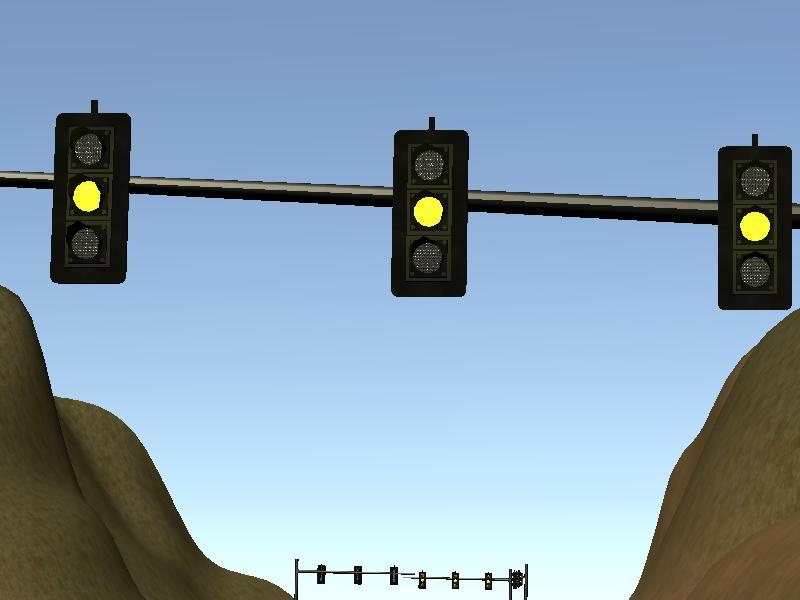YELLOW: (48, 112, 132, 284), (389, 128, 469, 295), (715, 145, 792, 308)
